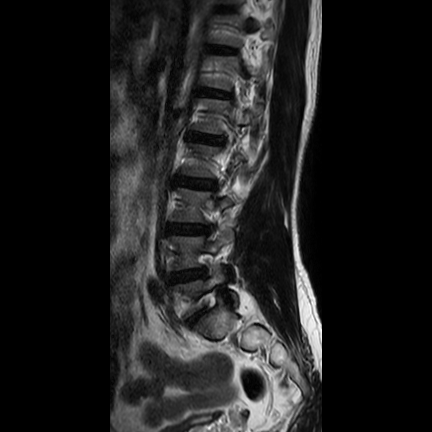RFS1: (193, 245, 219, 288)
